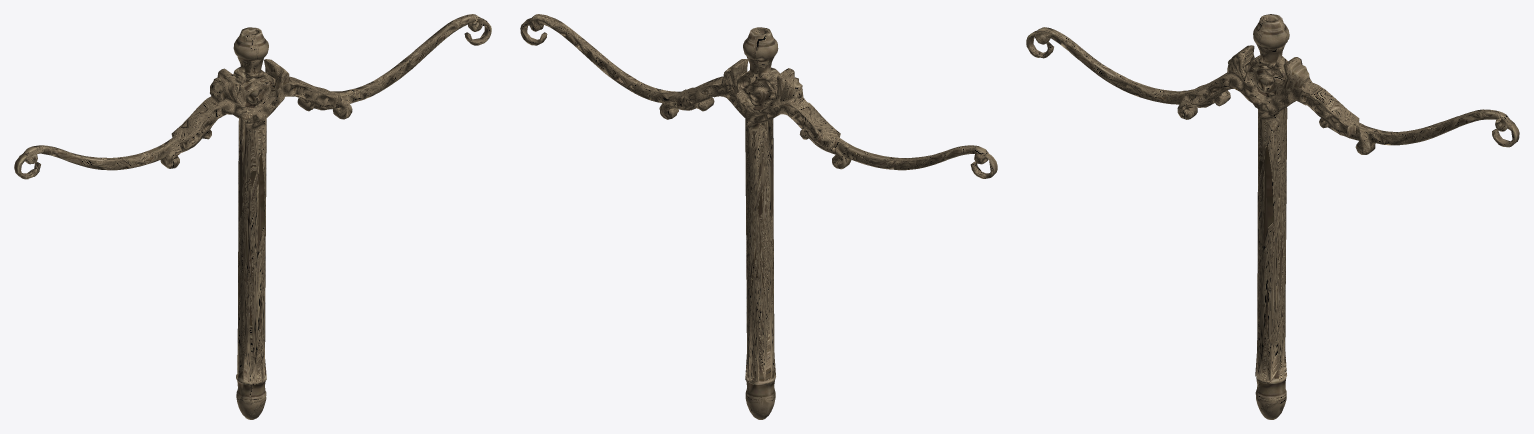
File: scale-beam.glb
3 views of the same model, side by side, from view 1: azimuth 30°, elevation 25°; view 2: azimuth 150°, elevation 25°; view 3: azimuth 330°, elevation 25° (orthographic). The views are drawn at different scales.
Parts seen in each view (by area): view 1: output_unwrapped; view 2: output_unwrapped; view 3: output_unwrapped.
Part boxes in pixels (x1,y1,x2,y2): output_unwrapped: (14,14,491,419); output_unwrapped: (520,14,997,419); output_unwrapped: (1026,14,1519,419).
Size of the model in its own units: 1.9 by 1.48 by 0.1228.
1 material, 1 textured.
